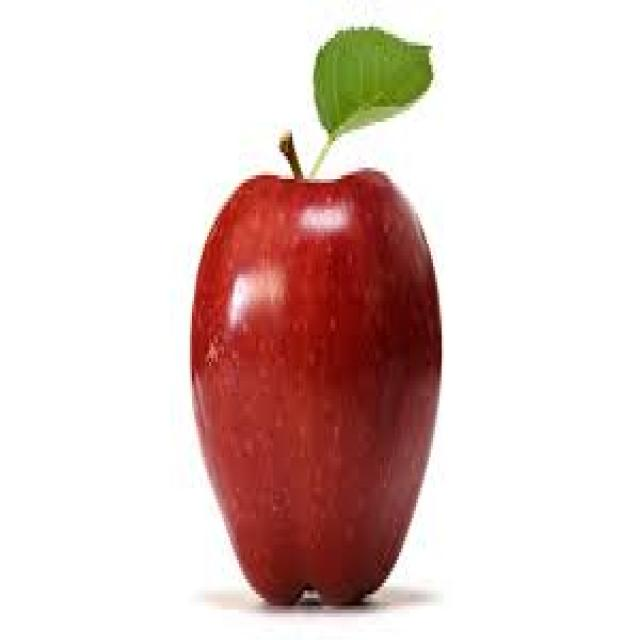non_orange: (164, 135, 506, 640)
